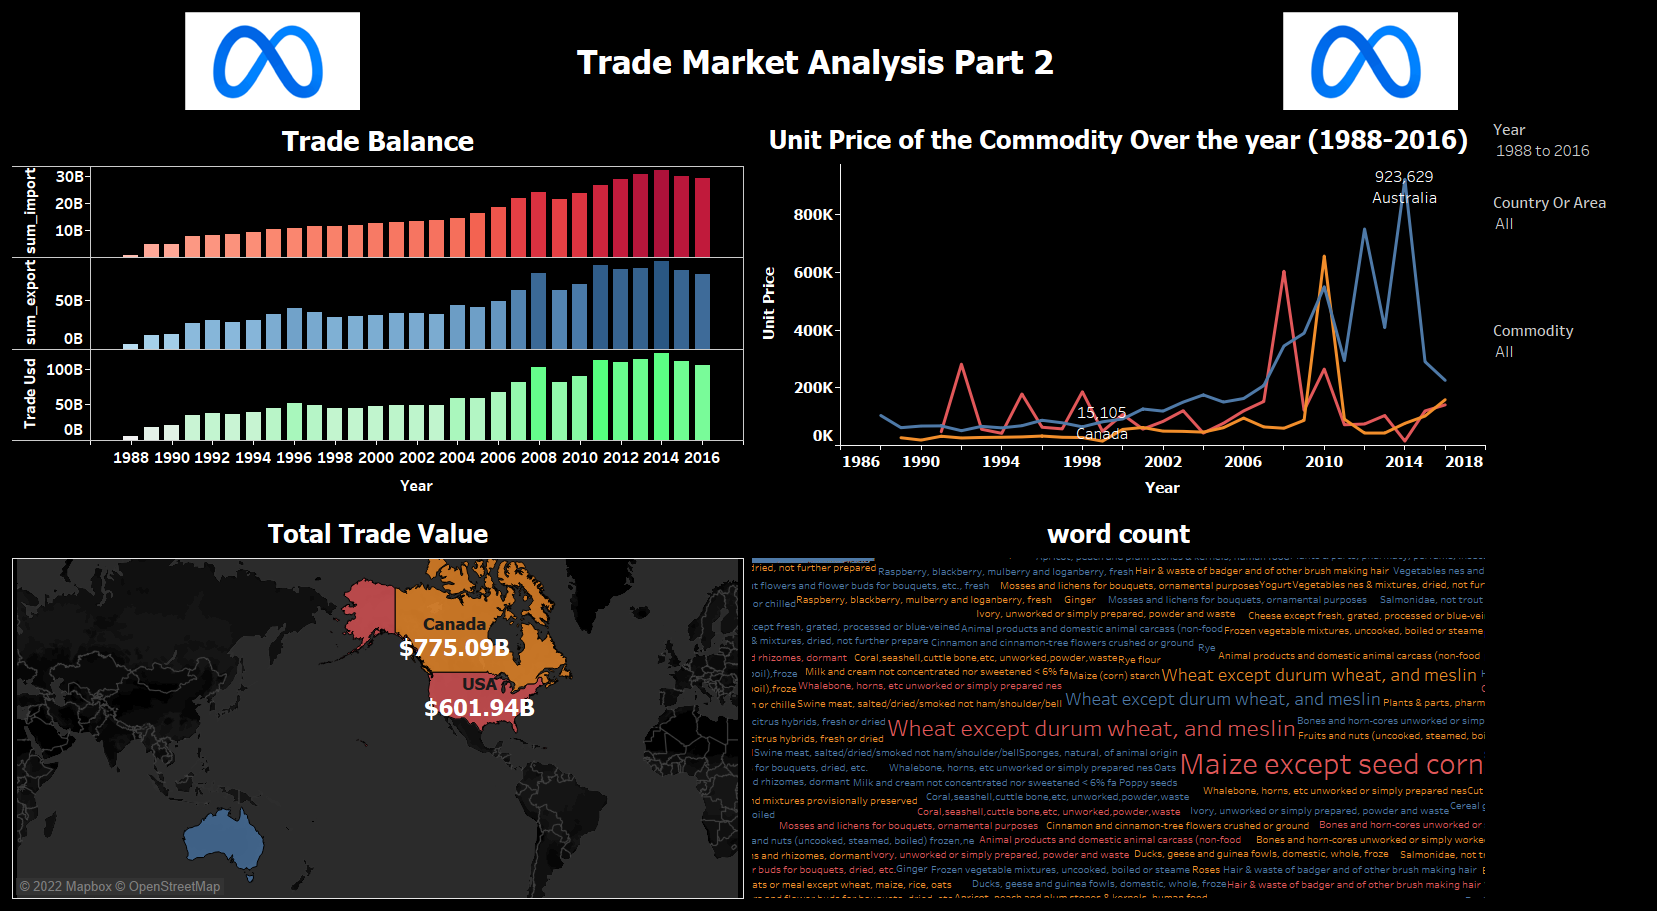

This screenshot's page, from the dashboard's own definition file:
{"tool":"tableau","page":{"name":"Trade Market Part 1 (2)","canvas":[1000,1000],"units":"permille","ordinal":1},"visuals":[{"type":"image","param":"C:/Users/DELL/Pictures/Images/images (7).png","box":[4.8,8.8,319.7,116.3]},{"type":"text","box":[324.5,8.8,335.3,116.3]},{"type":"image","param":"C:/Users/DELL/Pictures/Images/images (7).png","box":[659.8,8.8,335.3,116.3]},{"type":"worksheet","title":"Trade Balance","mark":"Bar","rows":["Calculation_1259600524748734465","Calculation_1259600524749578242","trade_usd"],"cols":["year"],"box":[4.8,125.1,446.9,433]},{"type":"worksheet","title":"Unit Price","mark":"Automatic","rows":["Calculation_1259600524766187524"],"cols":["year"],"box":[451.7,125.1,446.9,433]},{"type":"filter","title":"Trade Balance","param":"[federated.03yl7uw0nyzdh11aq3x7612zjl2o].[none:year:qk]","box":[898.6,125.1,96.6,80.1]},{"type":"filter","title":"Trade Balance","param":"[federated.03yl7uw0nyzdh11aq3x7612zjl2o].[none:country_or_area:nk]","box":[898.6,205.2,96.6,140.5]},{"type":"filter","title":"Unit Price","param":"[federated.03yl7uw0nyzdh11aq3x7612zjl2o].[none:commodity:nk]","box":[898.6,345.7,96.6,67]},{"type":"worksheet","title":"Total Trade Value","mark":"Multipolygon","box":[4.8,558.1,446.9,433.1]},{"type":"worksheet","title":"word count","mark":"Text","box":[451.7,558.1,446.9,433.1]}]}

Visuals, with their boxes on the dashboard's canvas, which has no fixed pixel size, in thousandths of its width and height (x1, y1, x2, y2). These are canvas units, not pixel positions in the 1657x911 screenshot, which may show the page scaled, cropped or inside an application window:
image: bbox(5, 9, 324, 125)
text: bbox(324, 9, 660, 125)
image: bbox(660, 9, 995, 125)
"Trade Balance" worksheet (Bar marks): bbox(5, 125, 452, 558)
"Unit Price" worksheet: bbox(452, 125, 899, 558)
"Trade Balance" filter: bbox(899, 125, 995, 205)
"Trade Balance" filter: bbox(899, 205, 995, 346)
"Unit Price" filter: bbox(899, 346, 995, 413)
"Total Trade Value" worksheet (Multipolygon marks): bbox(5, 558, 452, 991)
"word count" worksheet (Text marks): bbox(452, 558, 899, 991)
